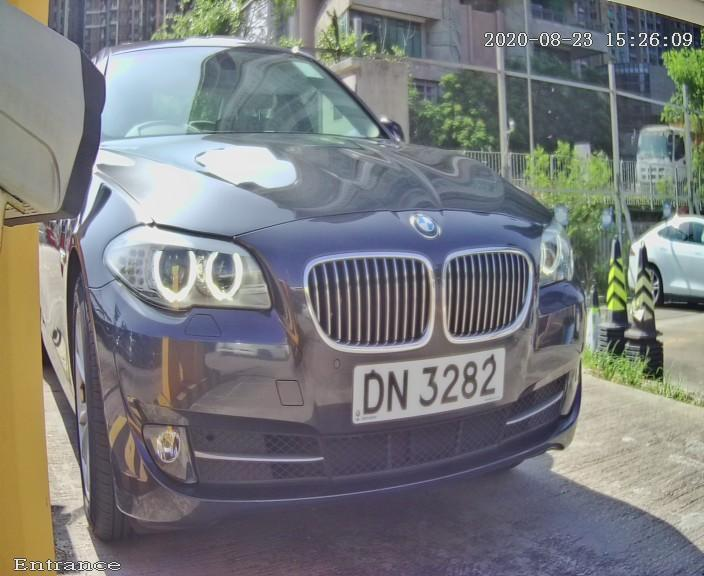Car: (4, 8, 626, 564)
License Plate: (334, 314, 544, 442)
